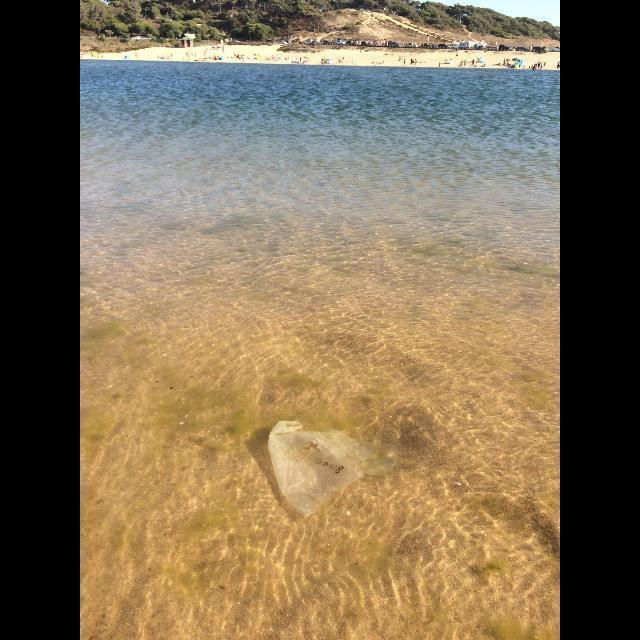Plastic: (268, 419, 398, 516)
